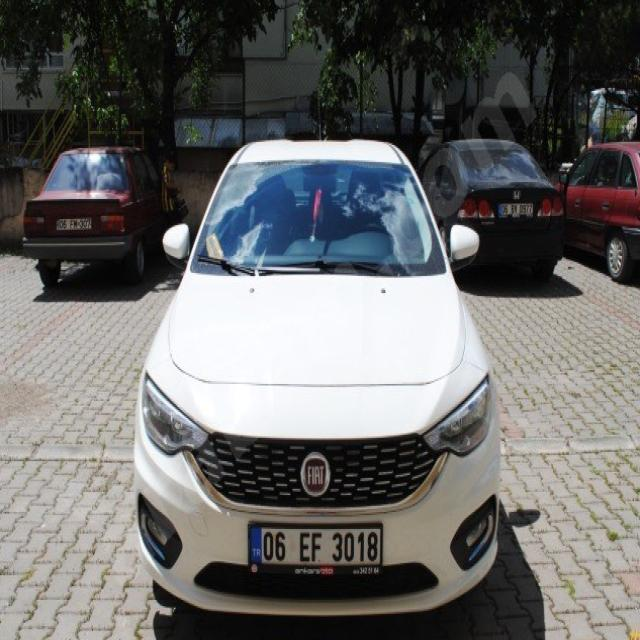license_plate: (248, 524, 381, 566)
